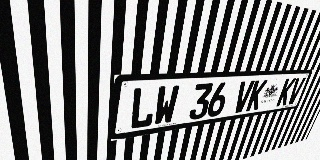3: (188, 83, 214, 121)
6: (206, 82, 230, 118)
K: (245, 80, 268, 111), (276, 78, 296, 107)
L: (129, 86, 157, 130)
V: (232, 80, 255, 114), (286, 77, 306, 105)
W: (153, 85, 180, 126)
